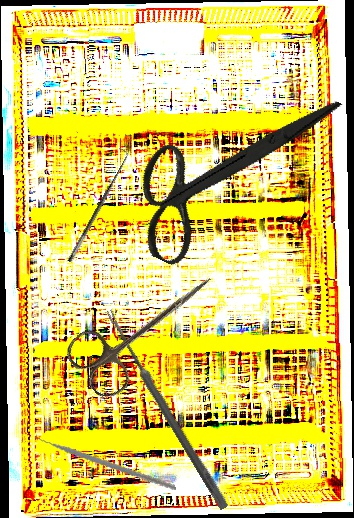Chopper: (33, 399, 177, 517)
Hook Surgical: (59, 147, 133, 264)
Iris Scissors: (111, 39, 345, 303), (60, 248, 231, 405)
Surgical Spoon: (102, 308, 231, 511)
